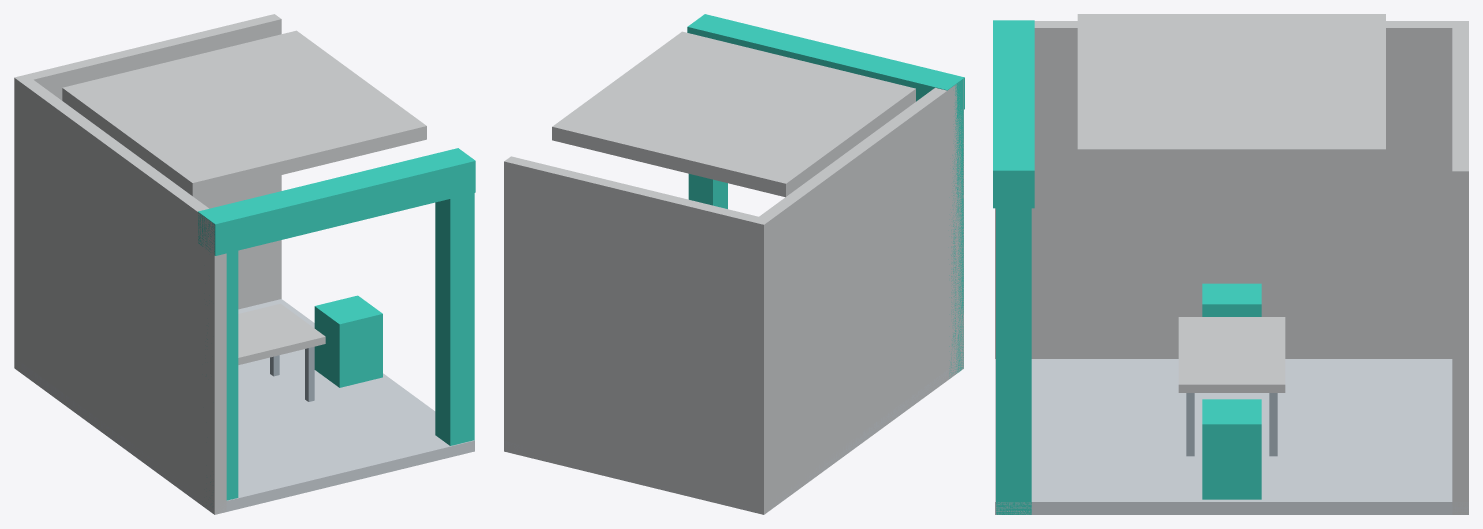
3 views of the same model, side by side, from view 1: azimuth 30°, elevation 25°; view 2: azimuth 150°, elevation 25°; view 3: azimuth 270°, elevation 25° (orthographic). The views are drawn at different scales.
Visible parts, largest first — view 1: Exhibition Booth Concept; view 2: Exhibition Booth Concept; view 3: Exhibition Booth Concept.
Part boxes in pixels (box(x1,y1,x2,y2)): Exhibition Booth Concept: box(14, 14, 475, 514); Exhibition Booth Concept: box(504, 14, 964, 514); Exhibition Booth Concept: box(993, 14, 1468, 514).
Bounding box in the file's own units: 3 × 3.34 × 4.02.
